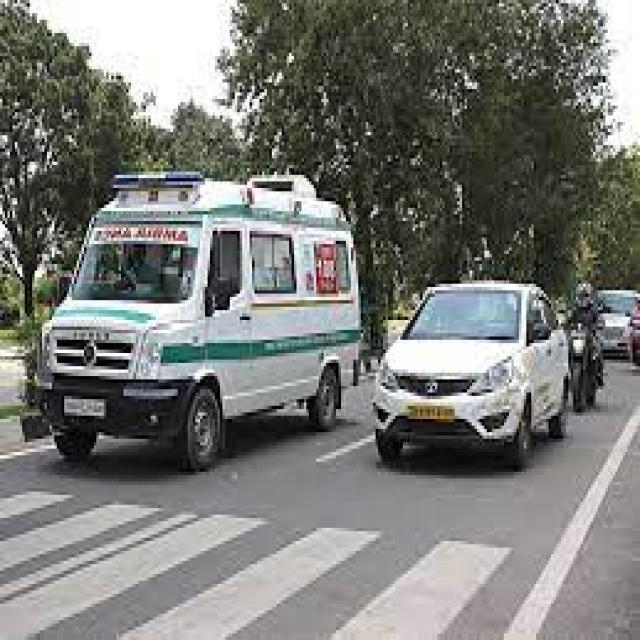emergency-vehicle: (22, 158, 366, 468)
